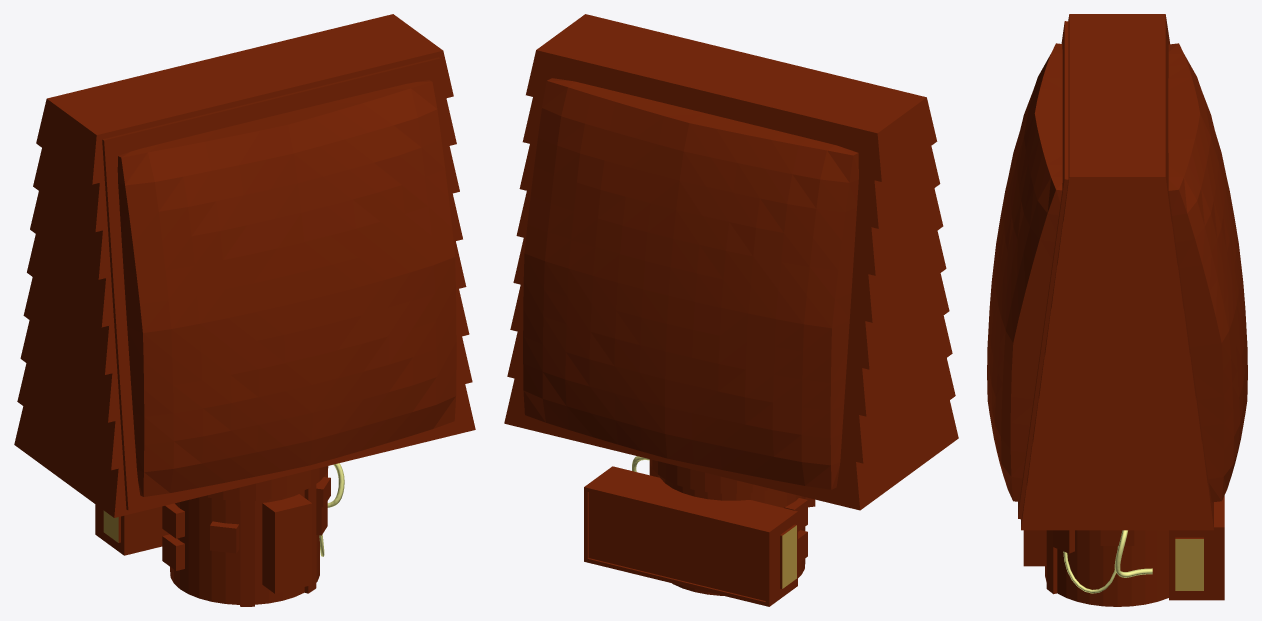
Rendered from spq_9b.obj.
3 renders of one model, left to right at view 1: azimuth 30°, elevation 25°; view 2: azimuth 150°, elevation 25°; view 3: azimuth 270°, elevation 25°, orthographic. The views are drawn at different scales.
Parts seen in each view (by area): view 1: radar, body; view 2: radar, body; view 3: radar, body.
Boxes of the visible parts, bbox=[...] form: radar: bbox=[14, 14, 475, 517]; body: bbox=[95, 463, 344, 606]; radar: bbox=[504, 14, 958, 510]; body: bbox=[584, 456, 815, 606]; radar: bbox=[987, 14, 1247, 530]; body: bbox=[1023, 496, 1224, 606].
Size of the model in its own units: 2.09 by 2.75 by 1.35.
